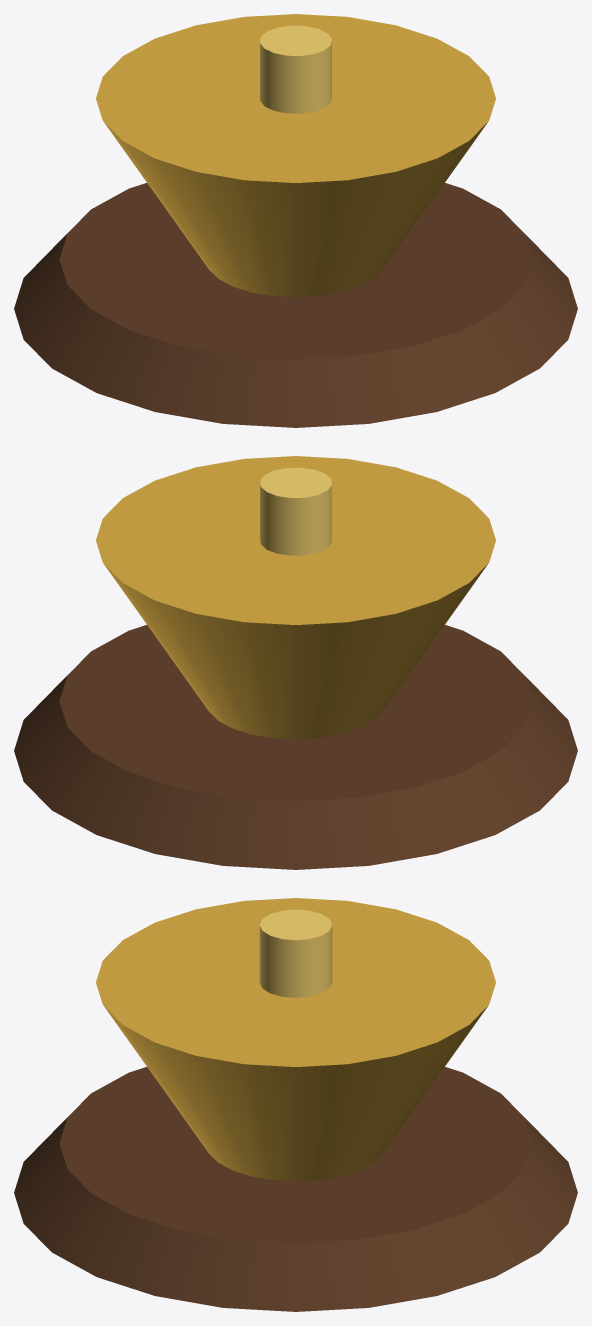
Rendered from pickup-bell.glb.
3 renders of one model, top to bottom at view 1: azimuth 30°, elevation 25°; view 2: azimuth 150°, elevation 25°; view 3: azimuth 270°, elevation 25°, orthographic.
Parts seen in each view (by area): view 1: Base, Bell, Button; view 2: Base, Bell, Button; view 3: Base, Bell, Button.
Part boxes in pixels (<box>): Base: <box>14,183,577,427</box>; Bell: <box>96,14,495,297</box>; Button: <box>260,25,331,113</box>; Base: <box>14,625,577,869</box>; Bell: <box>96,456,495,739</box>; Button: <box>260,467,331,555</box>; Base: <box>14,1067,577,1311</box>; Bell: <box>96,898,495,1181</box>; Button: <box>259,909,332,997</box>.
Size of the model in its own units: 1.24 by 0.65 by 1.24.
